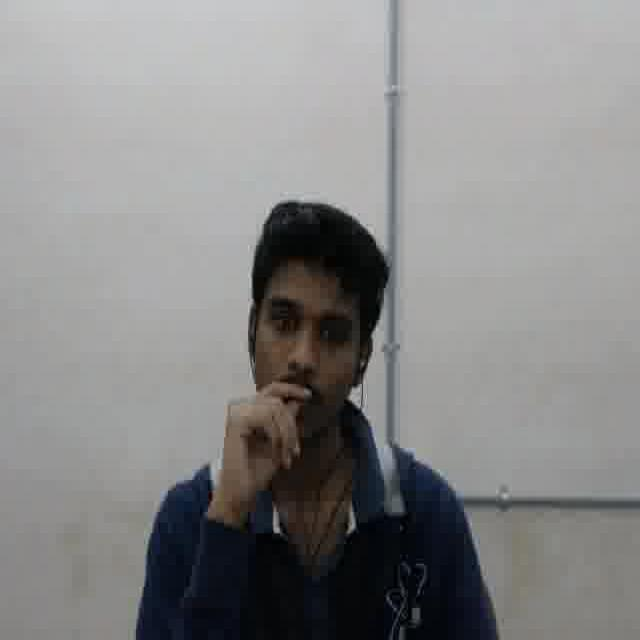Boredom: (251, 258, 356, 430)
